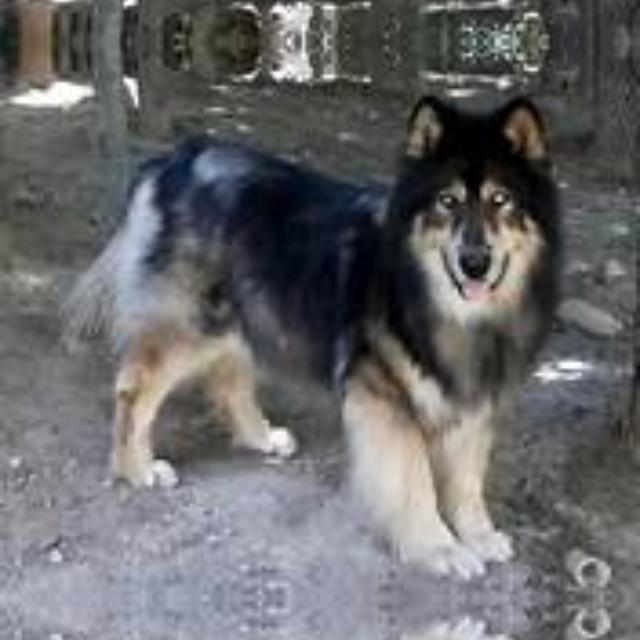dog: (75, 98, 580, 584), (75, 610, 580, 640)
